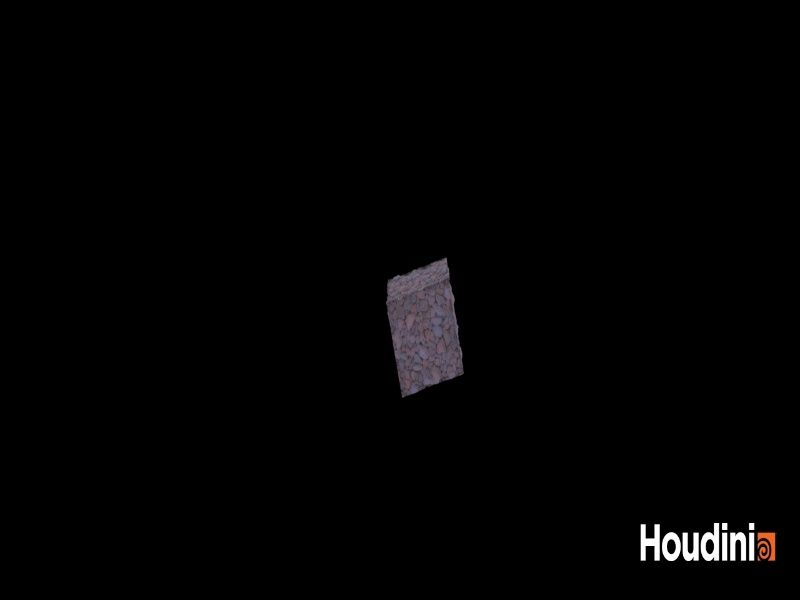waste: (382, 250, 469, 406)
